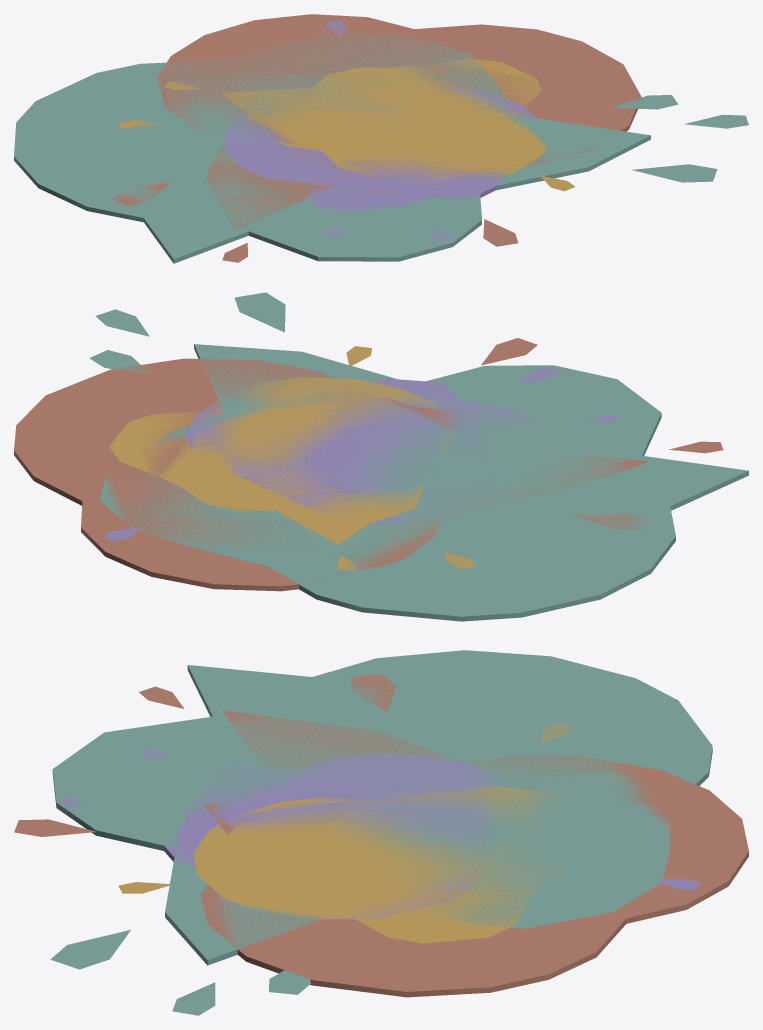
The model's file is prop_splat_decor.glb.
3 renders of one model, top to bottom at view 1: azimuth 30°, elevation 25°; view 2: azimuth 150°, elevation 25°; view 3: azimuth 270°, elevation 25°, orthographic. The views are drawn at different scales.
Visible parts, largest first — view 1: Decor_3, Decor_2, Decor_0, Decor_1; view 2: Decor_3, Decor_2, Decor_0, Decor_1; view 3: Decor_3, Decor_2, Decor_0, Decor_1.
Part boxes in pixels (x1,y1,x2,y2): Decor_3: (14, 33, 748, 263); Decor_2: (111, 14, 641, 262); Decor_0: (120, 59, 575, 191); Decor_1: (223, 20, 538, 242); Decor_3: (89, 292, 748, 621); Decor_2: (14, 338, 723, 591); Decor_0: (109, 346, 475, 571); Decor_1: (104, 367, 617, 541); Decor_3: (50, 650, 712, 1015); Decor_2: (14, 674, 748, 997); Decor_0: (118, 722, 642, 943); Decor_1: (62, 746, 700, 919).
Bounding box in the file's own units: 1.15 × 0.008 × 0.977.
